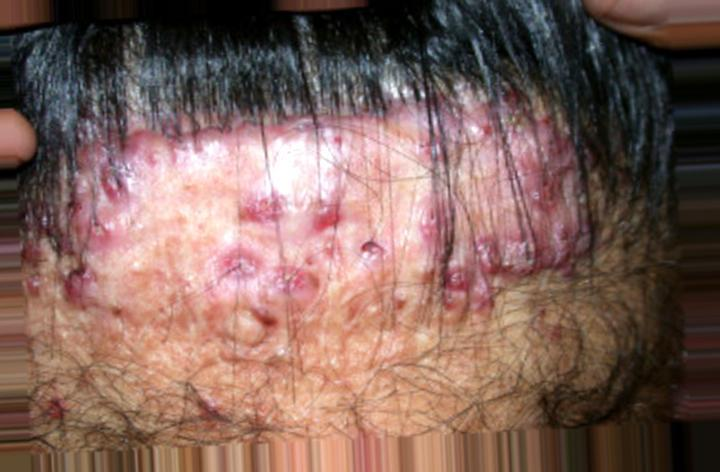Folliculitis: (72, 120, 568, 299)
